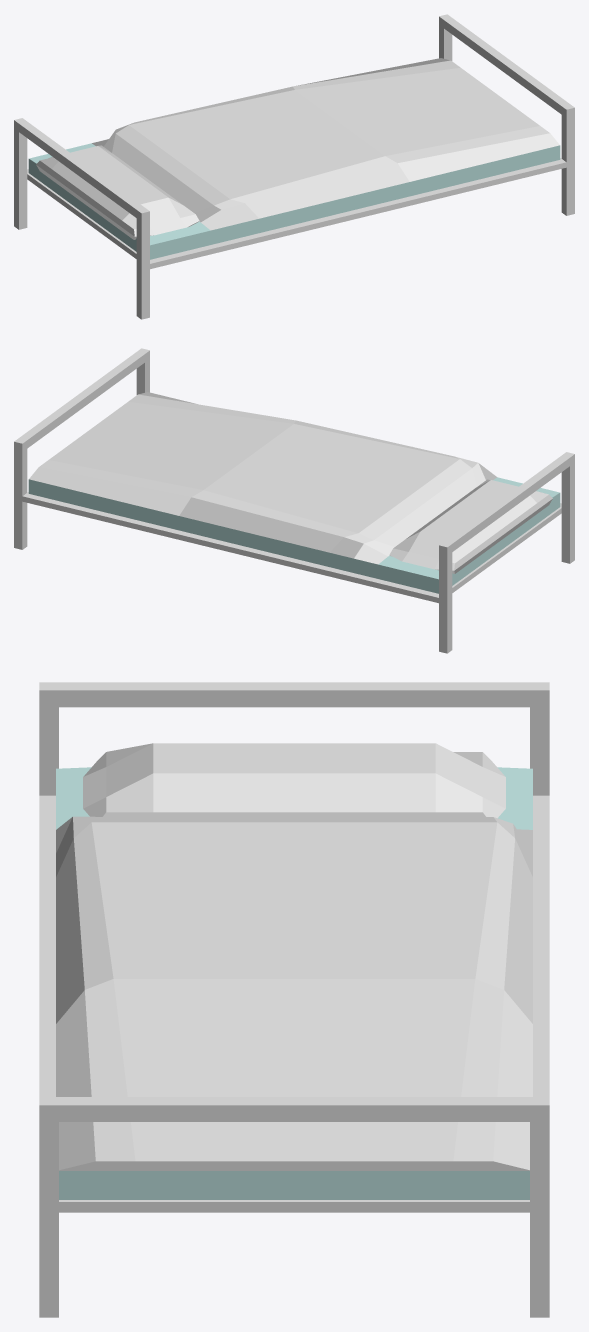
Rendered from Bed.glb.
The picture shows the model from 3 angles, top to bottom: view 1: azimuth 30°, elevation 25°; view 2: azimuth 150°, elevation 25°; view 3: azimuth 270°, elevation 25°; orthographic projection. The views are drawn at different scales.
Visible parts, largest first — view 1: Cube.003, Cube.004, Cube.001, Cube.002, Cube; view 2: Cube.003, Cube.004, Cube.001, Cube.002, Cube; view 3: Cube.003, Cube.004, Cube, Cube.002, Cube.001.
Boxes of the visible parts, x1=… form: Cube.003: x1=28, y1=58, x2=560, y2=259; Cube.004: x1=36, y1=145, x2=199, y2=239; Cube.001: x1=27, y1=158, x2=566, y2=269; Cube.002: x1=14, y1=118, x2=149, y2=319; Cube: x1=439, y1=14, x2=574, y2=215; Cube.003: x1=28, y1=392, x2=560, y2=593; Cube.004: x1=389, y1=479, x2=552, y2=573; Cube.001: x1=22, y1=492, x2=561, y2=603; Cube.002: x1=439, y1=452, x2=574, y2=653; Cube: x1=14, y1=348, x2=149, y2=549; Cube.003: x1=56, y1=767, x2=532, y2=1199; Cube.004: x1=83, y1=743, x2=505, y2=818; Cube: x1=39, y1=1097, x2=549, y2=1317; Cube.002: x1=39, y1=682, x2=549, y2=795; Cube.001: x1=39, y1=795, x2=549, y2=1212.
Size of the model in its own units: 2.04 by 0.478 by 1.04.
